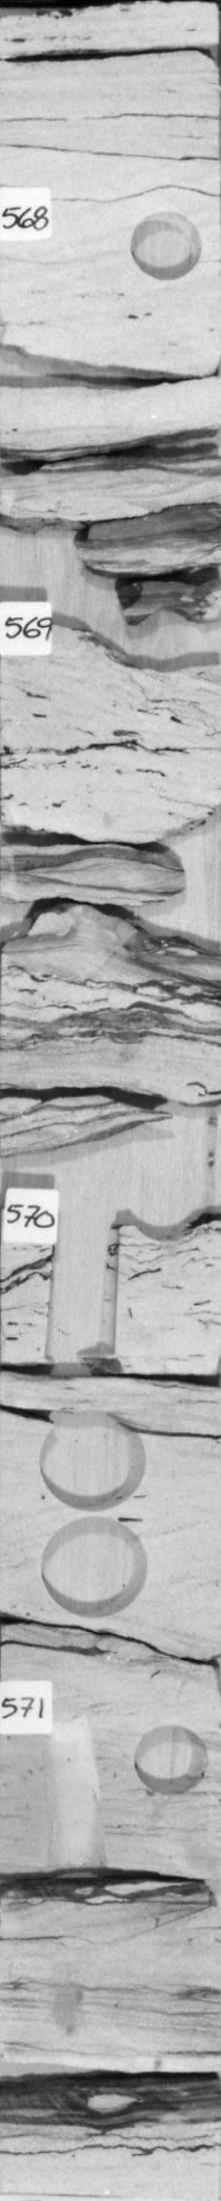hplug: (122, 587, 204, 678), (125, 203, 209, 287), (127, 1719, 213, 1801), (125, 1194, 206, 1251)
scal: (36, 1405, 154, 1512), (38, 1515, 156, 1621)
vplug: (36, 1194, 125, 1371), (34, 1719, 111, 1880)
